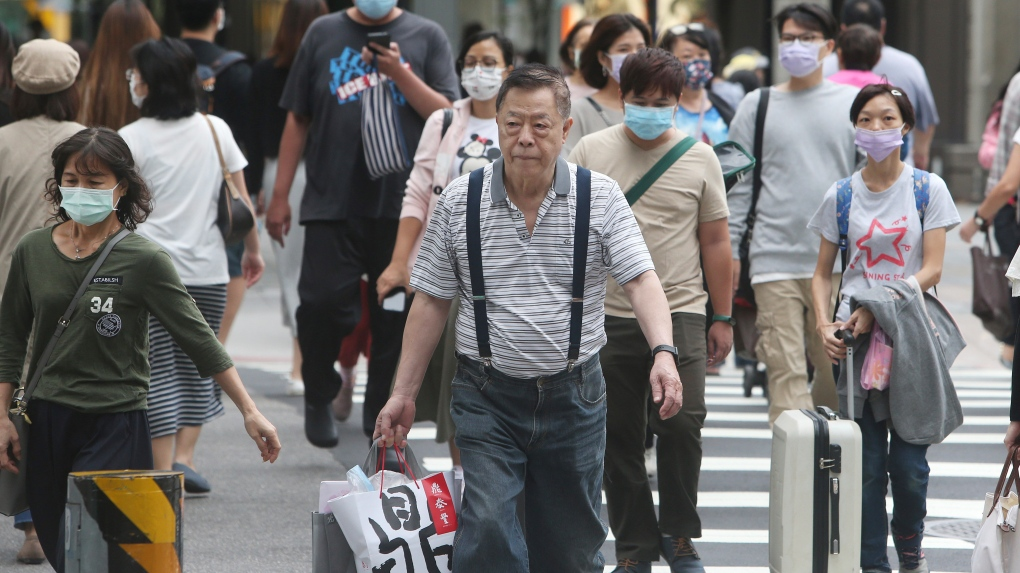with_incorrect_mask: (860, 100, 896, 150)
with_mask: (630, 89, 666, 139), (782, 22, 814, 72), (466, 47, 500, 89)
without_mask: (503, 100, 547, 161), (66, 163, 105, 215)
